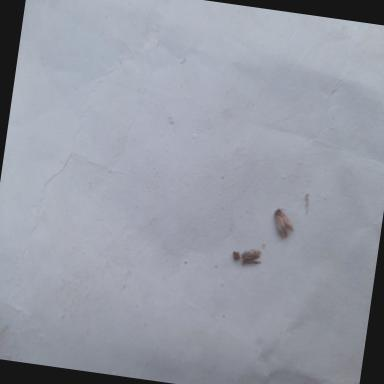pbw: (269, 205, 296, 238)
